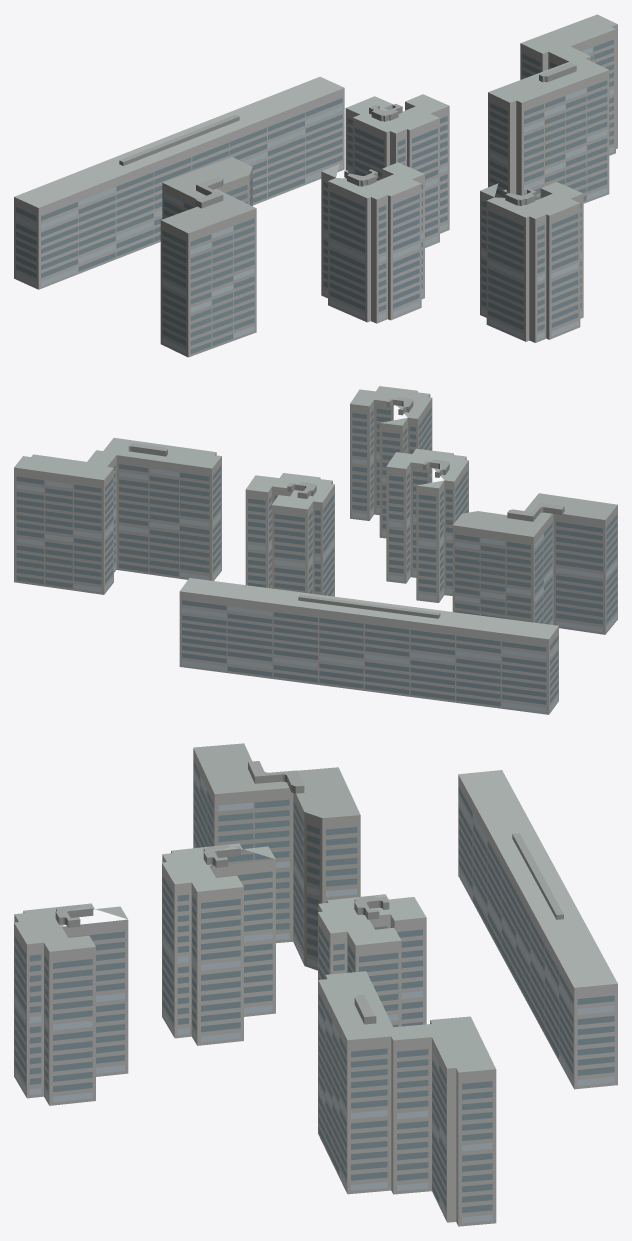
Rendered from apt-a13980018.glb.
The picture shows the model from 3 angles, top to bottom: view 1: azimuth 30°, elevation 25°; view 2: azimuth 150°, elevation 25°; view 3: azimuth 270°, elevation 25°; orthographic projection. The views are drawn at different scales.
Parts seen in each view (by area): view 1: apt-a13980018; view 2: apt-a13980018; view 3: apt-a13980018.
Boxes of the visible parts, left/top/right/bottom form: apt-a13980018: left=14, top=14, right=617, bottom=357; apt-a13980018: left=14, top=386, right=617, bottom=714; apt-a13980018: left=14, top=743, right=617, bottom=1226.
Bounding box in the file's own units: 194 × 41 × 139.
